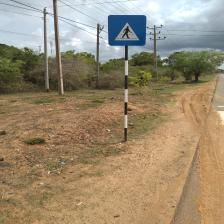blueboard: (107, 14, 147, 46)
